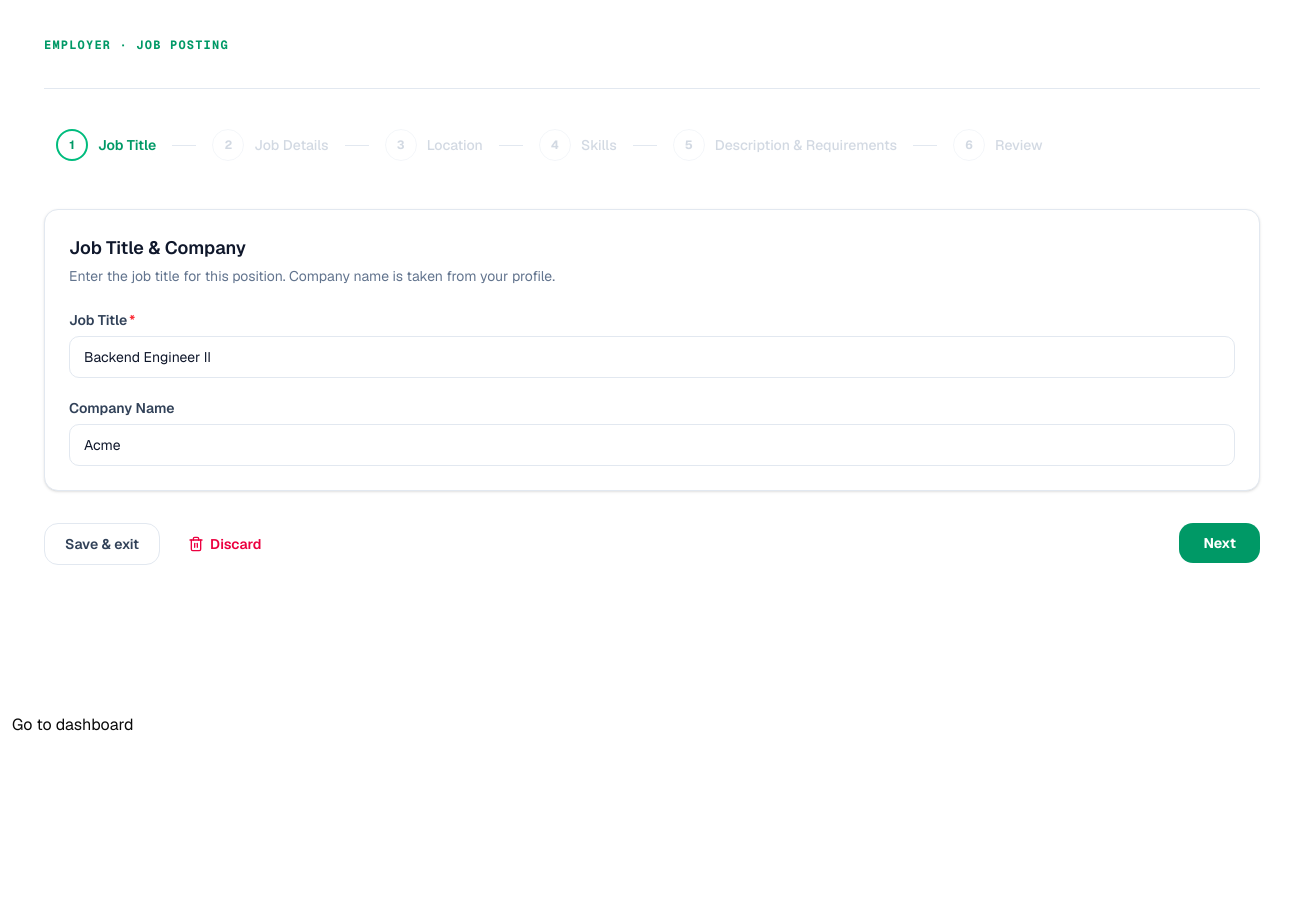
Scenario: CreateJobView draft on every step › says so when the step's draft couldn't be saved
Click the button "Next": [1220, 543] box top-left (1179, 523), bottom-right (1260, 563)
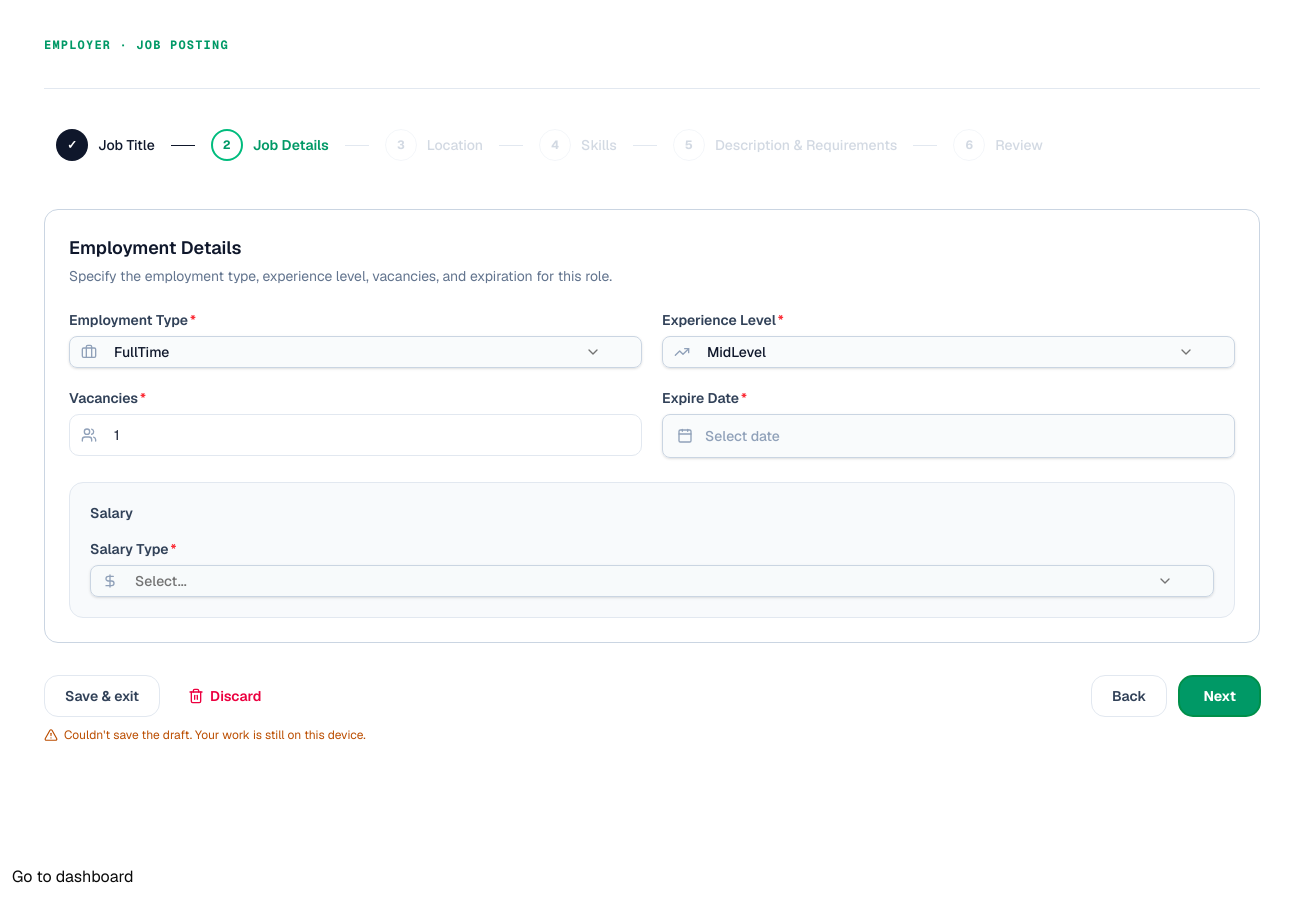
Expected: the text "Couldn't save the draft. Your work is still on this device." is shown, top-left (44, 727), bottom-right (366, 743)
